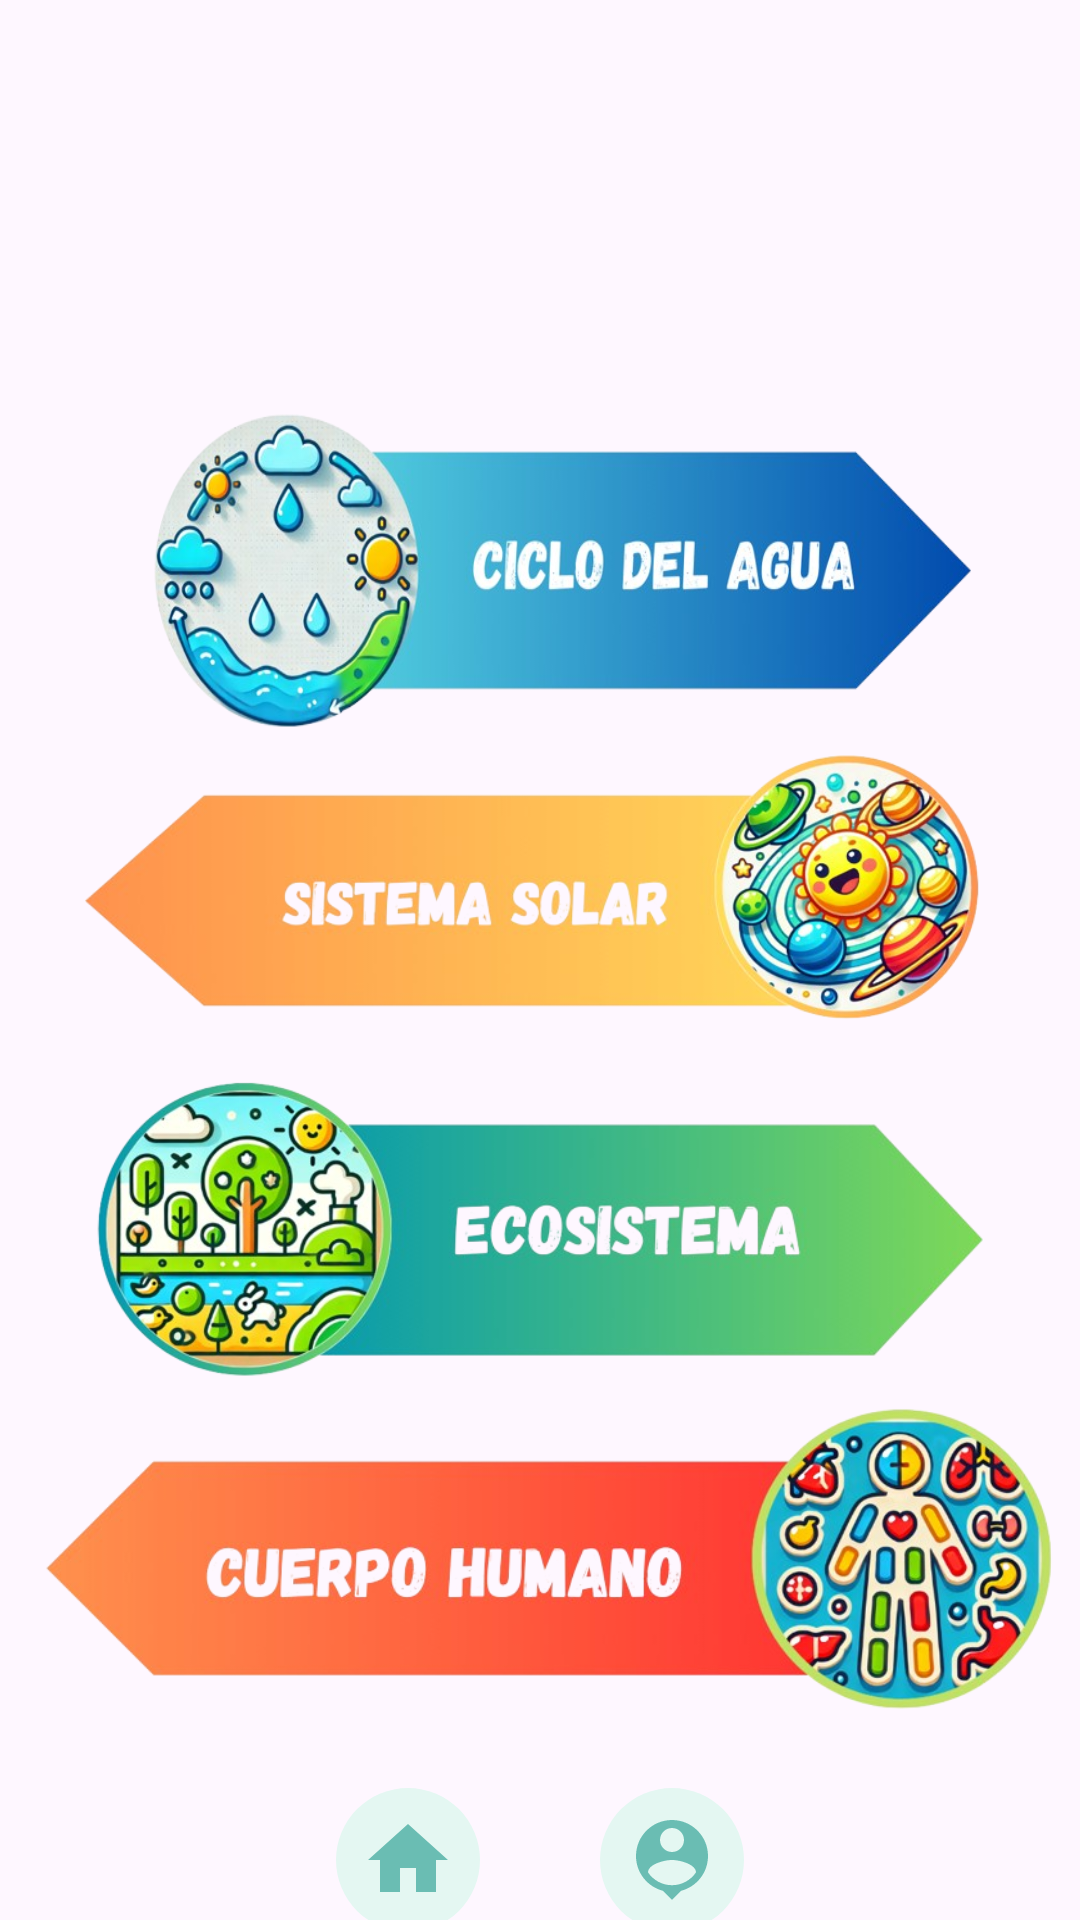

Icon bounding boxes for this 1080px×1920px phone screenshot, format {"left": x1, "top": y1, "right": x2, "bottom": y2}:
home: {"left": 336, "top": 1788, "right": 480, "bottom": 1920}
person pin: {"left": 600, "top": 1788, "right": 744, "bottom": 1920}
